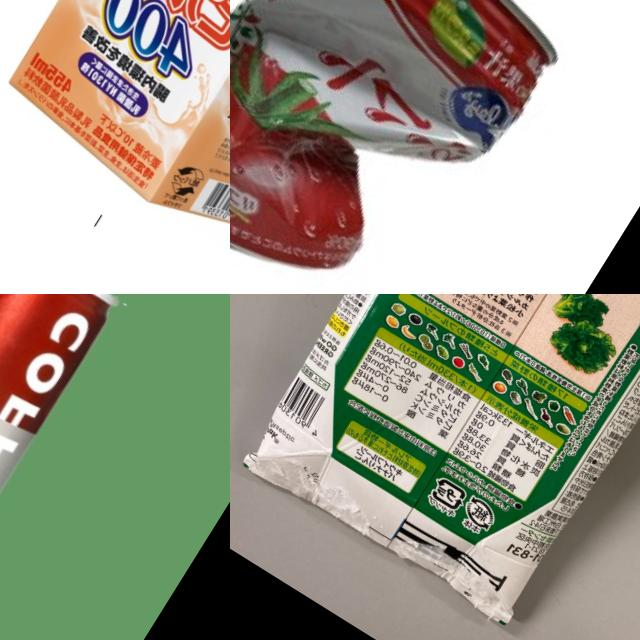Aluminium Foil: (230, 294, 640, 640), (2, 0, 230, 252)
Can: (230, 0, 584, 294), (0, 294, 139, 619)
